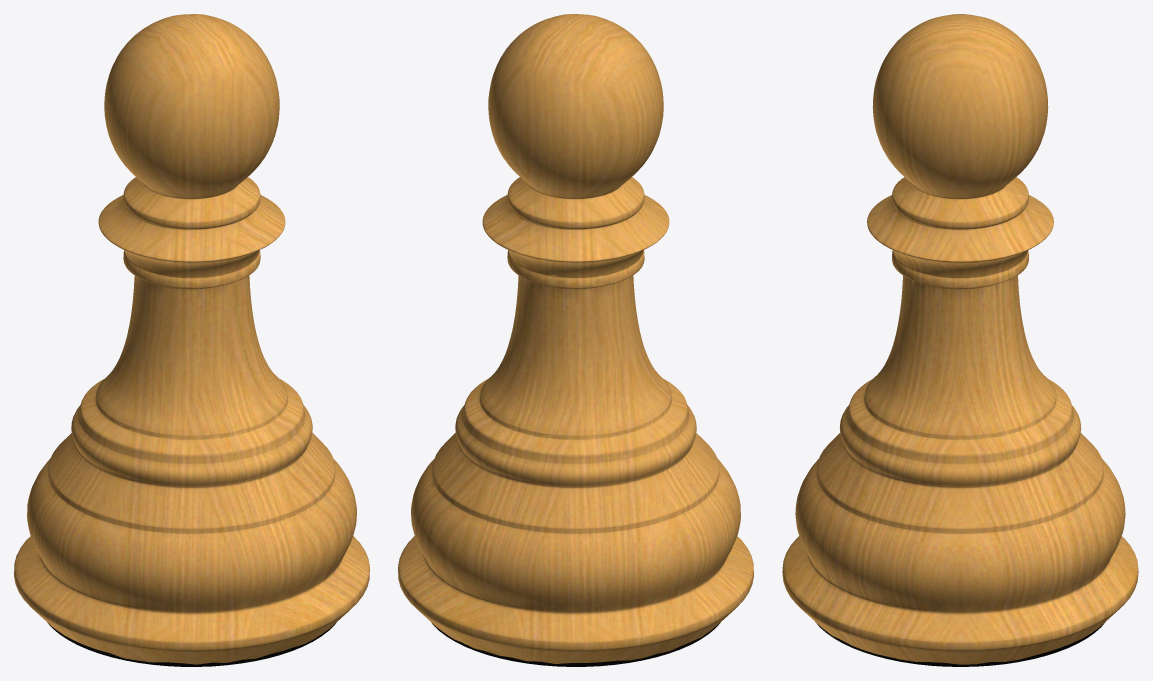
Rendered from pawn.obj.
3 renders of one model, left to right at view 1: azimuth 30°, elevation 25°; view 2: azimuth 150°, elevation 25°; view 3: azimuth 270°, elevation 25°, orthographic.
Parts seen in each view (by area): view 1: pawn; view 2: pawn; view 3: pawn.
Boxes of the visible parts, bbox=[...] form: pawn: bbox=[14, 14, 369, 666]; pawn: bbox=[398, 14, 753, 666]; pawn: bbox=[782, 14, 1138, 666].
Bounding box in the file's own units: 0.2792 × 0.5016 × 0.2792.
Materials: 1 (1 with a texture image).
